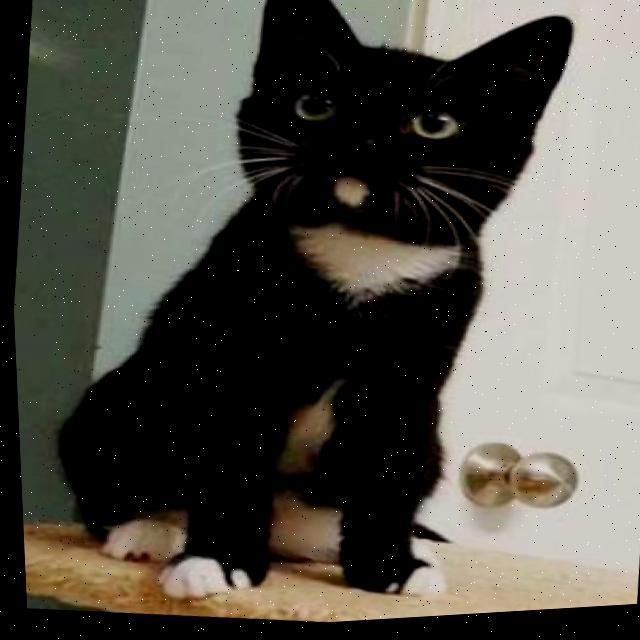Tuxedo: (17, 0, 601, 639)
